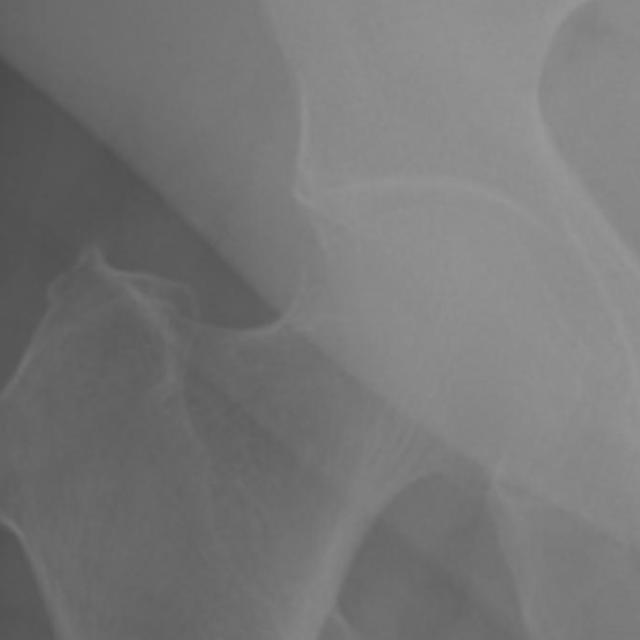Fitted_femural_head: (300, 207, 432, 300)
